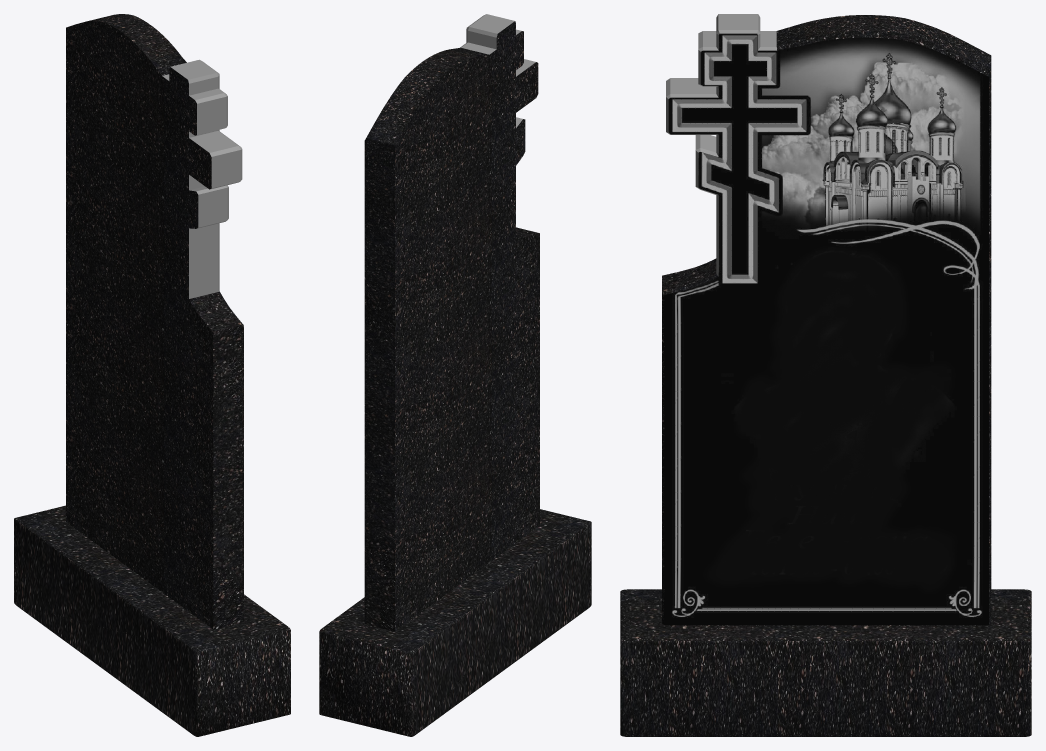
Rendered from Памятник Крест Храм [granite_1_orthodox] (80).glb.
3 views of the same model, side by side, from view 1: azimuth 30°, elevation 25°; view 2: azimuth 150°, elevation 25°; view 3: azimuth 270°, elevation 25° (orthographic). The views are drawn at different scales.
Visible parts, largest first — view 1: Plane.001, Куб.004; view 2: Plane.001, Куб.004; view 3: Plane.001, Куб.004.
Part boxes in pixels (x1,y1,x2,y2): Plane.001: (66, 14, 243, 629); Куб.004: (14, 505, 290, 736); Plane.001: (364, 14, 539, 631); Куб.004: (319, 509, 591, 736); Plane.001: (662, 14, 991, 625); Куб.004: (620, 589, 1031, 736).
Bounding box in the file's own units: 0.15 × 0.9261 × 0.5.
Materials: 4 (3 with a texture image).
